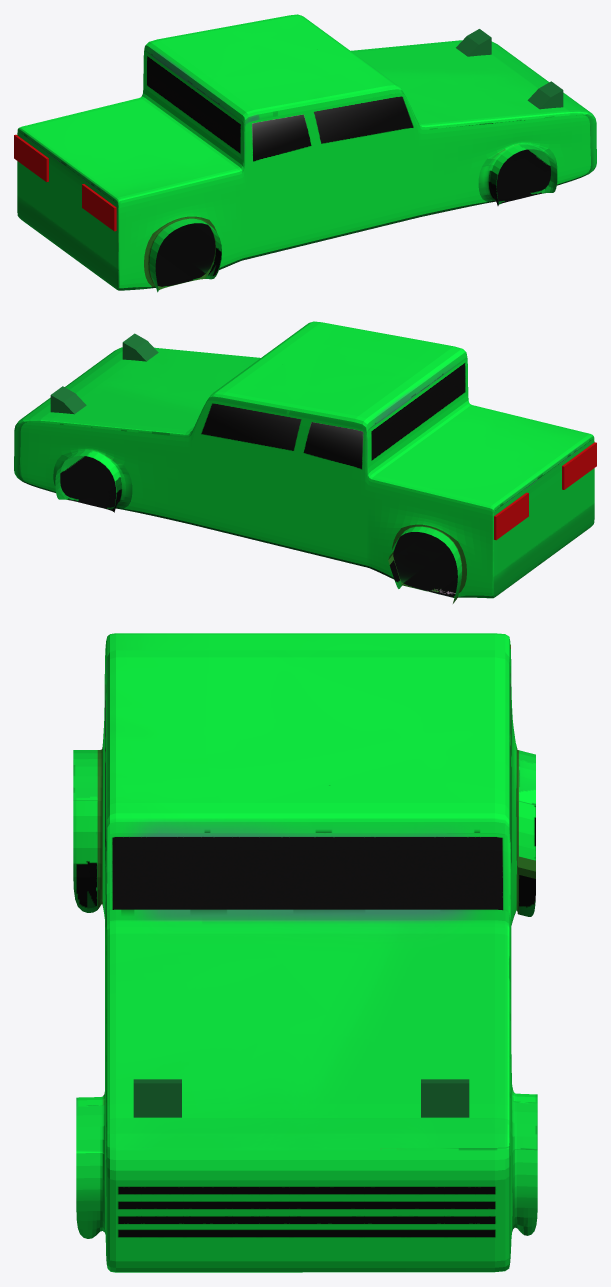
Rendered from CAR1.fbx.
3 views of the same model, one above another, from view 1: azimuth 30°, elevation 25°; view 2: azimuth 150°, elevation 25°; view 3: azimuth 270°, elevation 25° (orthographic). The views are drawn at different scales.
Visible parts, largest first — view 1: Cube, Cube.004, Cube.002, Cube.001, Cube.003; view 2: Cube, Cube.004, Cube.002, Cube.003, Cube.001; view 3: Cube, Cube.001, Cube.003.
Part boxes in pixels (left/top/right/bottom): Cube: left=17, top=14, right=596, bottom=292; Cube.004: left=82, top=184, right=116, bottom=231; Cube.002: left=14, top=134, right=48, bottom=182; Cube.001: left=527, top=81, right=563, bottom=109; Cube.003: left=456, top=29, right=491, bottom=56; Cube: left=14, top=321, right=594, bottom=603; Cube.004: left=562, top=442, right=596, bottom=489; Cube.002: left=494, top=492, right=528, bottom=540; Cube.003: left=50, top=386, right=86, bottom=414; Cube.001: left=122, top=333, right=158, bottom=361; Cube: left=73, top=633, right=537, bottom=1272; Cube.001: left=133, top=1079, right=181, bottom=1117; Cube.003: left=421, top=1079, right=469, bottom=1117.
Size of the model in its own units: 549 by 168 by 228.
Materials: 3 (1 with a texture image).
